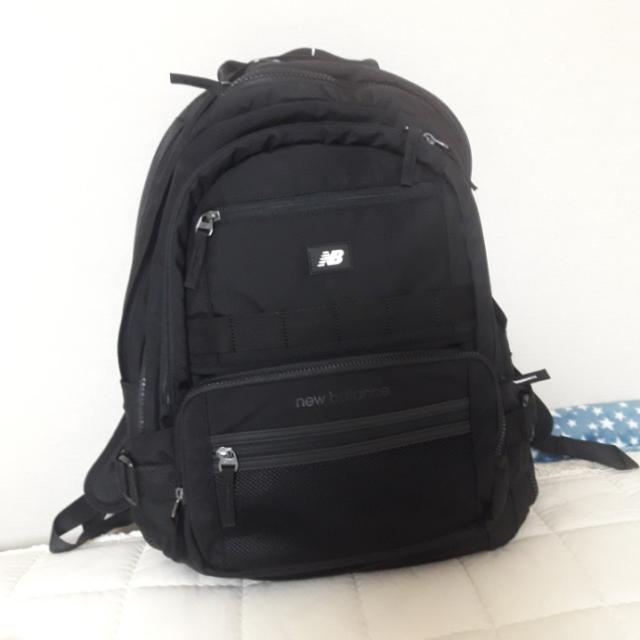backpack: (84, 49, 564, 582)
